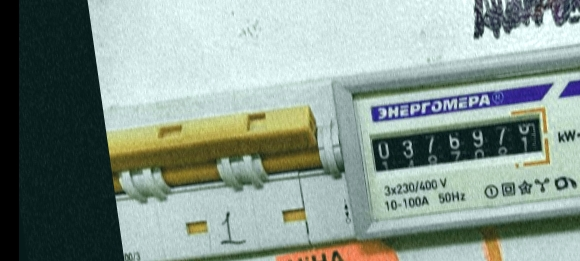0: (377, 140, 393, 162)
1: (520, 136, 533, 155)
3: (401, 139, 417, 161)
6: (447, 129, 463, 152)
7: (423, 134, 439, 156), (495, 125, 510, 148)
9: (471, 128, 486, 151)
screen: (362, 102, 559, 191)
